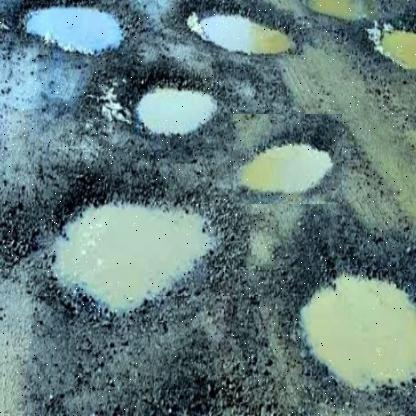pothole_water: (44, 172, 221, 318), (232, 114, 342, 205), (124, 61, 228, 142)
